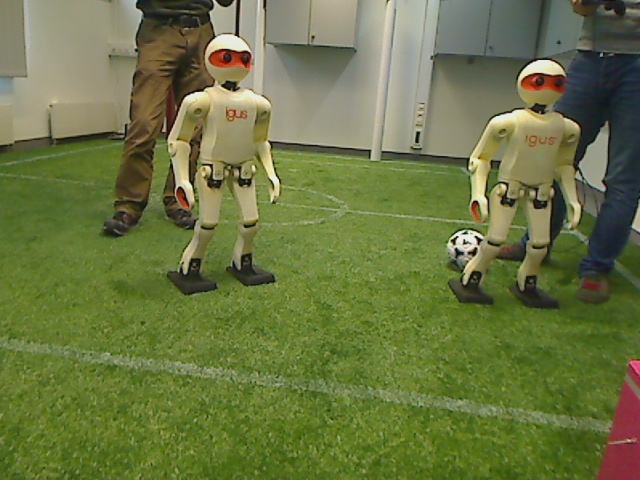ball: (445, 225, 488, 271)
robot: (175, 32, 282, 294), (468, 59, 576, 311)
